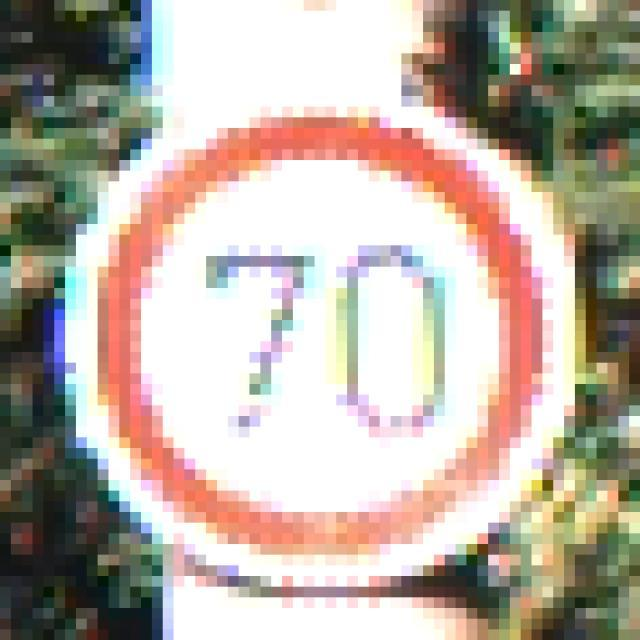Ograniczenie predkosci do 70: (78, 99, 568, 582)
